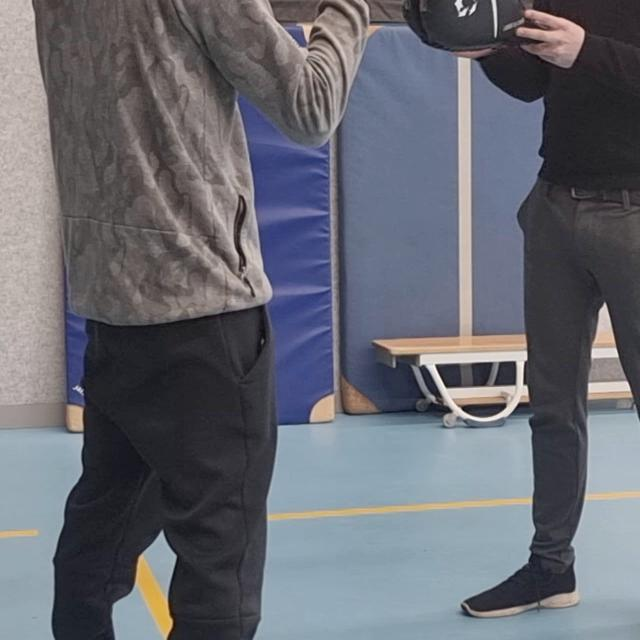paddle: (398, 0, 539, 48)
